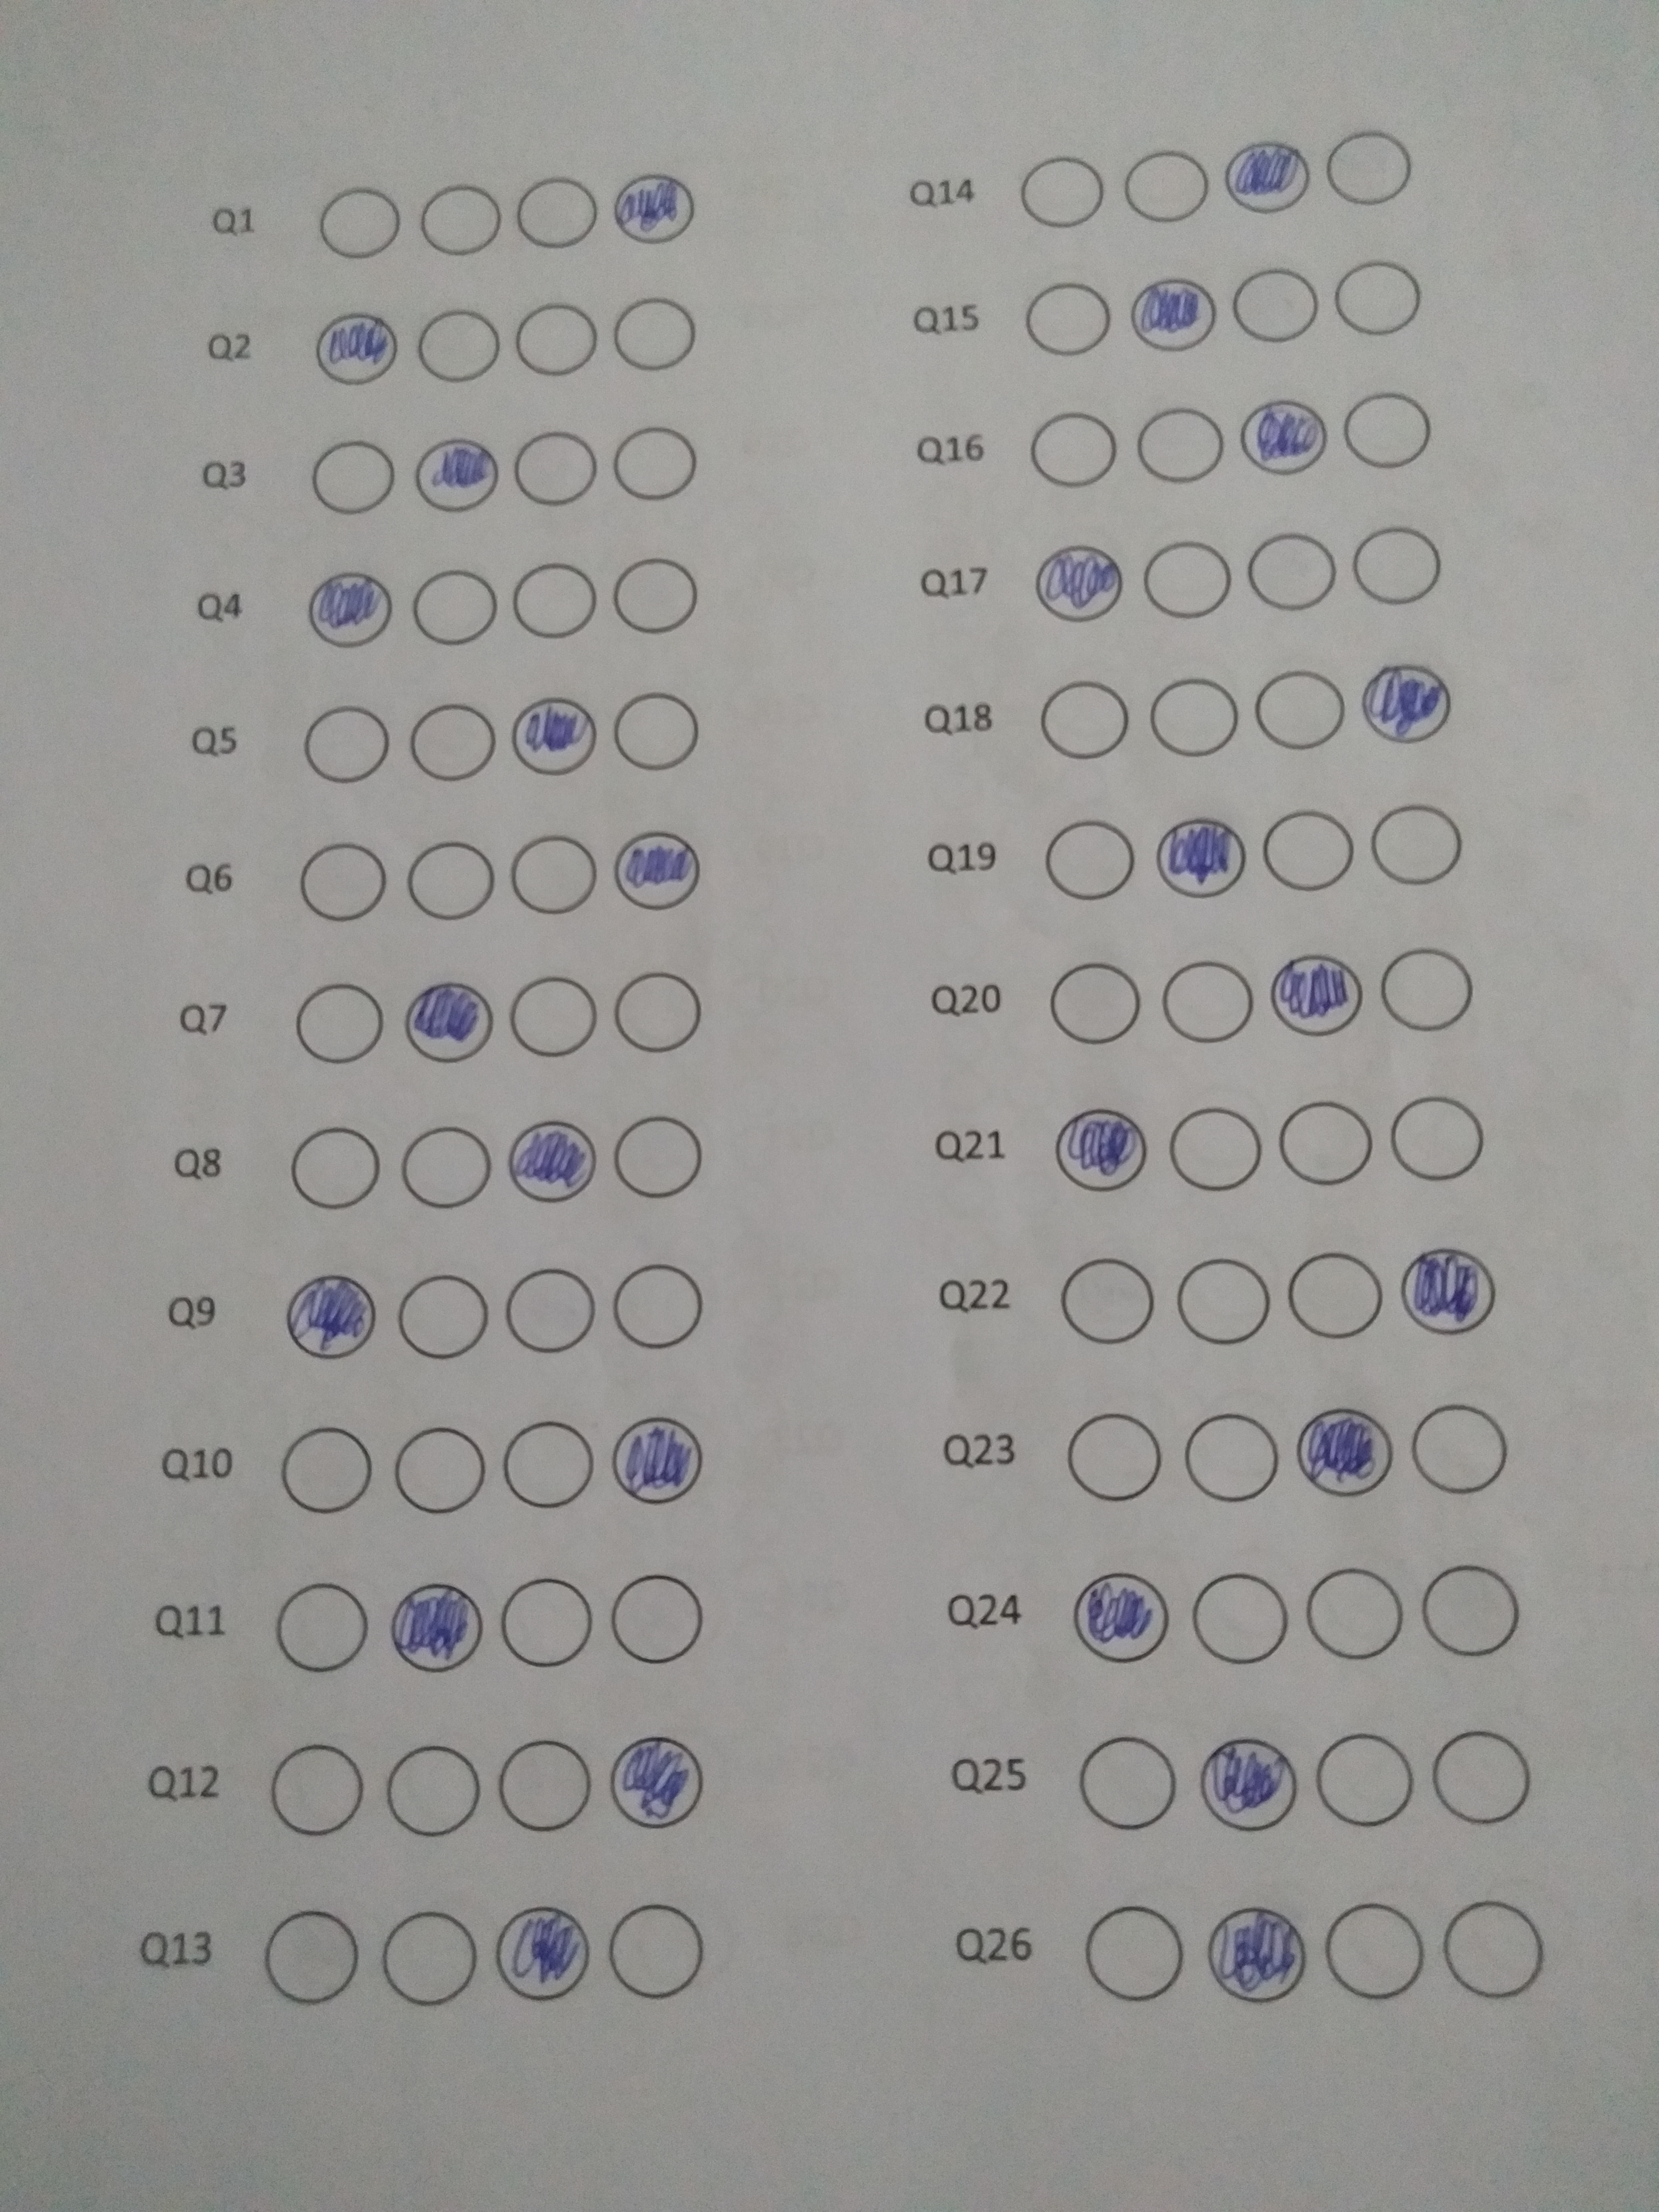not-c: (1080, 1905, 1188, 2001), (1415, 1564, 1523, 1660), (1302, 1564, 1410, 1660), (1427, 1730, 1535, 1825), (1319, 1900, 1427, 1996), (1176, 1407, 1284, 1503), (1056, 1406, 1164, 1501), (1405, 1402, 1513, 1498), (1439, 1898, 1546, 1994), (1310, 1730, 1417, 1825), (1072, 1733, 1178, 1829), (1185, 1571, 1291, 1665), (1284, 1249, 1392, 1341), (1049, 1258, 1157, 1348), (1168, 1258, 1274, 1346), (380, 1911, 477, 2005), (1039, 960, 1145, 1045), (265, 1907, 357, 2003), (1276, 1101, 1378, 1186), (1387, 1094, 1486, 1181), (1378, 946, 1478, 1033), (1168, 1104, 1265, 1191), (1032, 678, 1133, 761), (387, 1745, 479, 1836), (612, 1905, 701, 1998), (1368, 801, 1466, 885), (502, 1578, 592, 1667), (500, 1742, 591, 1831), (274, 1743, 362, 1834), (1260, 808, 1356, 892), (1161, 958, 1256, 1042), (277, 1583, 368, 1670), (505, 1421, 596, 1508), (613, 1576, 704, 1663), (282, 1426, 375, 1512), (1253, 669, 1351, 749), (1246, 529, 1344, 610), (396, 1425, 484, 1512), (613, 1263, 704, 1348), (1352, 524, 1443, 610), (1042, 819, 1136, 900), (1141, 535, 1236, 617), (399, 1275, 490, 1359), (1145, 676, 1239, 756), (507, 1270, 596, 1353), (613, 1116, 702, 1198), (1230, 265, 1321, 345), (1323, 129, 1417, 206), (1021, 280, 1110, 361), (1134, 406, 1225, 484), (315, 185, 404, 263), (410, 704, 498, 782), (613, 974, 702, 1052), (293, 982, 382, 1061), (612, 556, 701, 634), (406, 840, 495, 918), (303, 704, 392, 782), (301, 843, 390, 921), (507, 563, 596, 641), (610, 421, 699, 500), (308, 439, 397, 517), (612, 294, 701, 373), (415, 183, 504, 261), (512, 174, 599, 253), (406, 566, 495, 643), (403, 1129, 491, 1205), (613, 693, 702, 770), (289, 1130, 378, 1207), (507, 977, 596, 1054), (512, 838, 601, 914), (512, 428, 601, 505), (512, 301, 601, 378), (416, 307, 505, 383), (1028, 411, 1117, 488), (1014, 153, 1105, 228), (1345, 390, 1432, 467), (1333, 260, 1420, 336), (1122, 150, 1209, 225)
taken-c: (1206, 1905, 1309, 2005), (1197, 1737, 1302, 1834), (1396, 1238, 1499, 1336), (493, 1907, 592, 2006), (1073, 1568, 1169, 1669), (387, 1581, 488, 1676), (610, 1414, 709, 1508), (1295, 1407, 1396, 1500), (612, 1735, 706, 1832), (1267, 949, 1366, 1040), (1356, 658, 1455, 747), (281, 1273, 380, 1360), (505, 1118, 599, 1205), (612, 827, 702, 916), (1054, 1108, 1148, 1193), (1152, 815, 1248, 899), (404, 977, 497, 1062), (1030, 543, 1127, 624), (1237, 394, 1331, 475), (511, 693, 601, 777), (307, 568, 397, 648), (1223, 138, 1312, 218), (416, 434, 502, 516), (610, 172, 697, 249), (312, 310, 399, 387), (1129, 279, 1216, 354)
